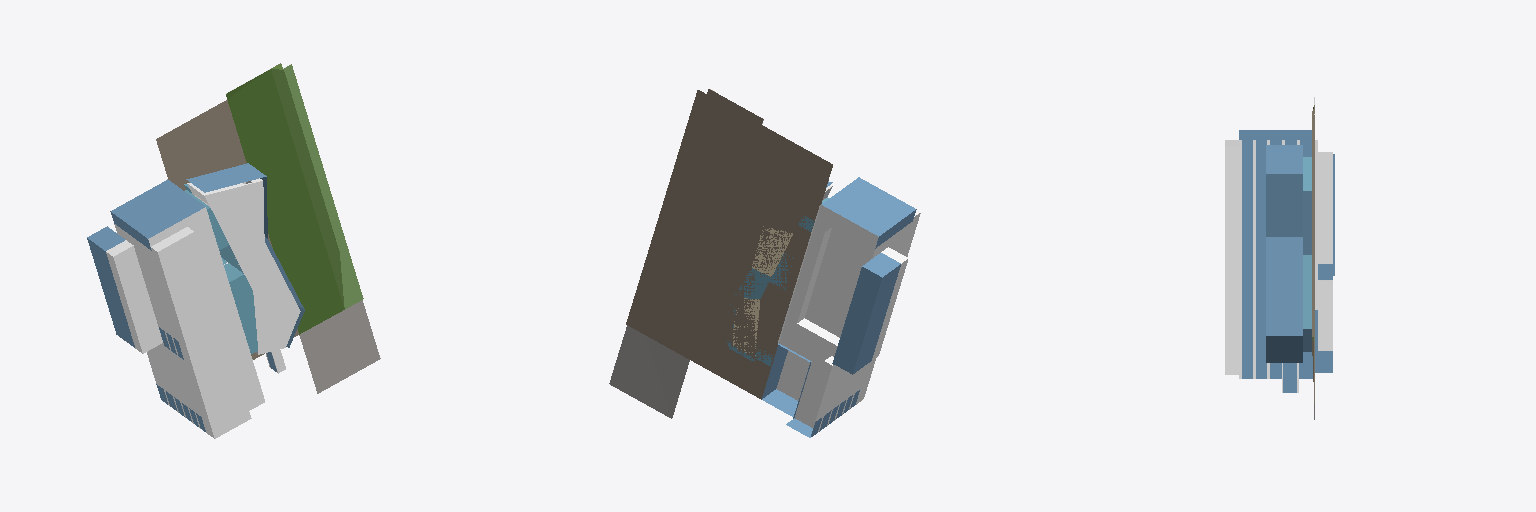
File: opt2-7.obj
The picture shows the model from 3 angles: view 1: azimuth 30°, elevation 25°; view 2: azimuth 150°, elevation 25°; view 3: azimuth 270°, elevation 25°; orthographic projection.
Bounding box in the file's own units: 330 × 378 × 110.